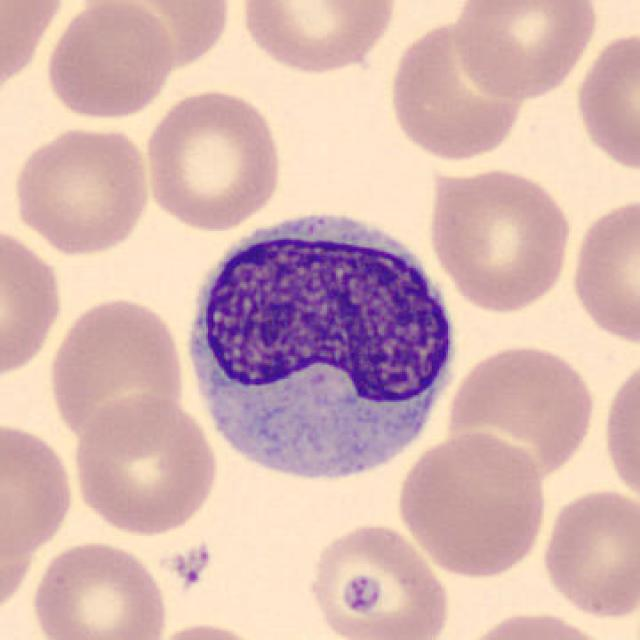Monocyte: (172, 196, 466, 495)
Platelets: (158, 537, 222, 591), (334, 561, 390, 619)
RBC: (393, 428, 549, 580), (423, 162, 576, 316), (382, 11, 534, 164), (443, 338, 599, 485), (44, 292, 188, 450), (68, 391, 222, 538), (139, 84, 286, 232), (9, 121, 155, 258), (302, 518, 453, 640), (42, 0, 176, 123), (446, 0, 600, 102), (26, 536, 170, 640), (537, 483, 638, 622), (235, 0, 402, 78), (567, 192, 640, 351), (0, 220, 66, 384), (0, 418, 76, 559), (571, 24, 638, 174), (100, 0, 234, 71), (0, 0, 67, 100), (599, 353, 640, 513), (453, 608, 619, 640), (146, 617, 272, 640)
